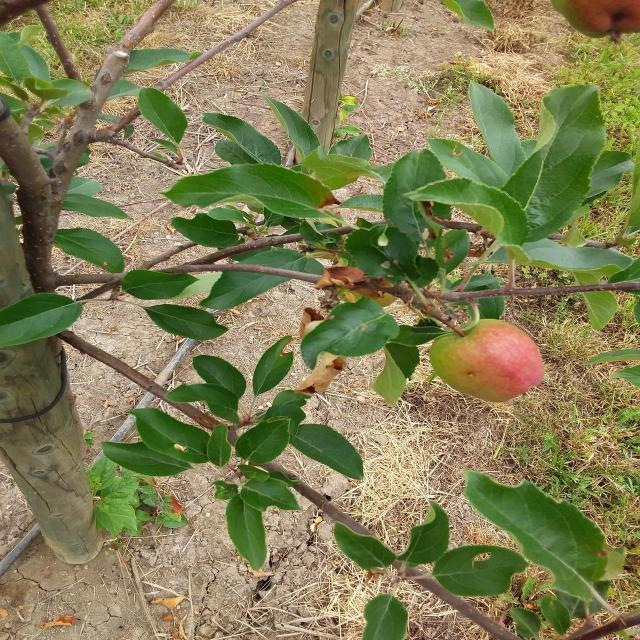-FireBlight-: (316, 264, 390, 300), (296, 349, 344, 403)
